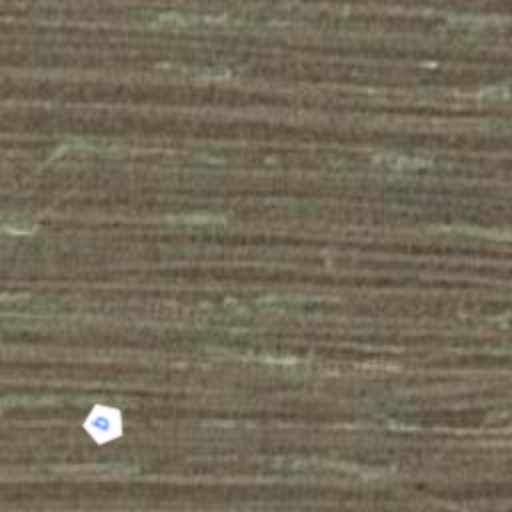pentagon: (76, 396, 132, 452)
